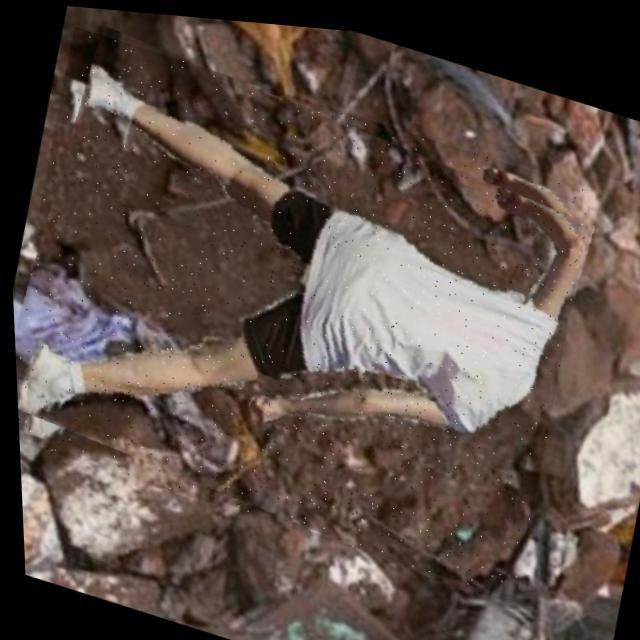Person in Rubble: (1, 19, 605, 596)
